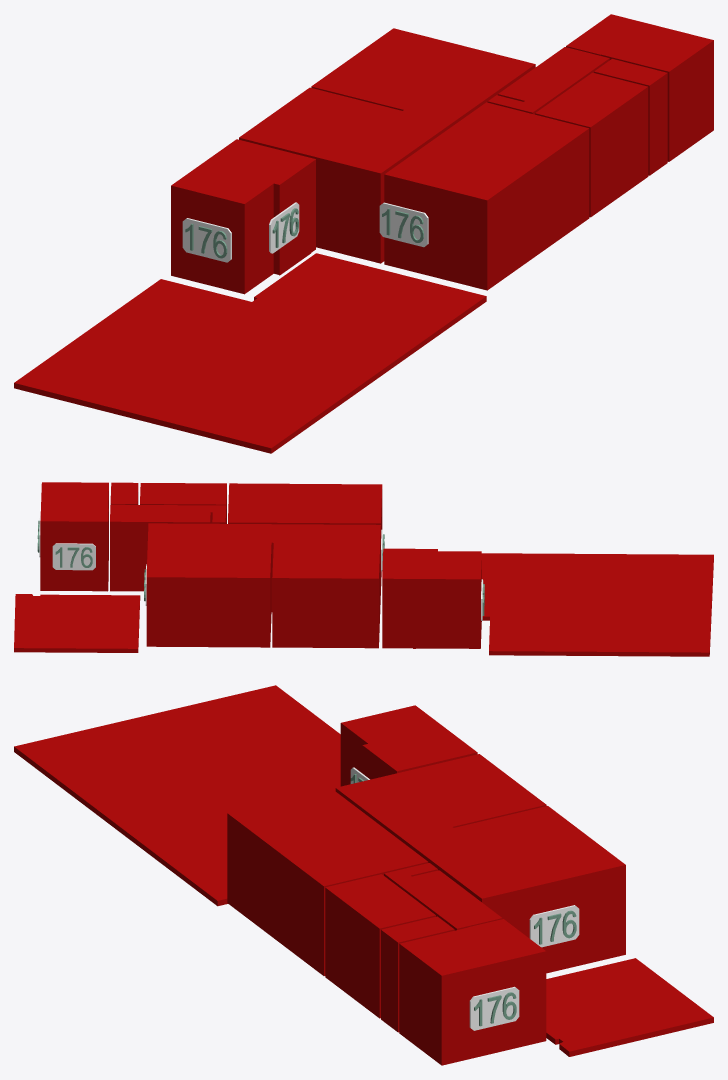
3 views of the same model, one above another, from view 1: azimuth 30°, elevation 25°; view 2: azimuth 150°, elevation 25°; view 3: azimuth 270°, elevation 25° (orthographic). The views are drawn at different scales.
Parts seen in each view (by area): view 1: g_8, g_1, g_3, g_0, g_4, g_2, g_6, g_5, g_7, g_17, g_13, g_21; view 2: g_8, g_4, g_3, g_0, g_9, g_2, g_1, g_5, g_6, g_29, g_7; view 3: g_8, g_4, g_1, g_2, g_9, g_3, g_6, g_0, g_5, g_7, g_33, g_25.
Boxes of the visible parts, x1=… form: g_8: x1=14, y1=253, x2=486, y2=453; g_1: x1=384, y1=102, x2=589, y2=290; g_3: x1=239, y1=87, x2=452, y2=263; g_0: x1=171, y1=139, x2=315, y2=294; g_4: x1=311, y1=28, x2=535, y2=125; g_2: x1=566, y1=14, x2=713, y2=161; g_6: x1=535, y1=72, x2=648, y2=217; g_5: x1=487, y1=47, x2=609, y2=114; g_7: x1=594, y1=59, x2=667, y2=175; g_17: x1=182, y1=218, x2=231, y2=262; g_13: x1=379, y1=202, x2=428, y2=247; g_21: x1=269, y1=202, x2=299, y2=253; g_8: x1=481, y1=553, x2=713, y2=656; g_4: x1=146, y1=523, x2=272, y2=647; g_3: x1=271, y1=524, x2=380, y2=648; g_0: x1=382, y1=548, x2=481, y2=648; g_9: x1=14, y1=594, x2=140, y2=652; g_2: x1=40, y1=482, x2=108, y2=591; g_1: x1=228, y1=483, x2=382, y2=585; g_5: x1=110, y1=504, x2=226, y2=591; g_6: x1=140, y1=483, x2=226, y2=523; g_29: x1=52, y1=543, x2=95, y2=570; g_7: x1=110, y1=482, x2=138, y2=504; g_8: x1=14, y1=685, x2=340, y2=906; g_4: x1=404, y1=806, x2=625, y2=973; g_1: x1=227, y1=788, x2=428, y2=975; g_2: x1=399, y1=919, x2=546, y2=1065; g_9: x1=546, y1=958, x2=713, y2=1056; g_3: x1=335, y1=754, x2=546, y2=842; g_6: x1=325, y1=874, x2=435, y2=1018; g_0: x1=340, y1=705, x2=477, y2=786; g_5: x1=384, y1=863, x2=502, y2=930; g_7: x1=381, y1=916, x2=454, y2=1032; g_33: x1=469, y1=986, x2=519, y2=1030; g_25: x1=529, y1=905, x2=579, y2=947.
Bounding box in the file's own units: 22.59 × 2.65 × 17.54.
